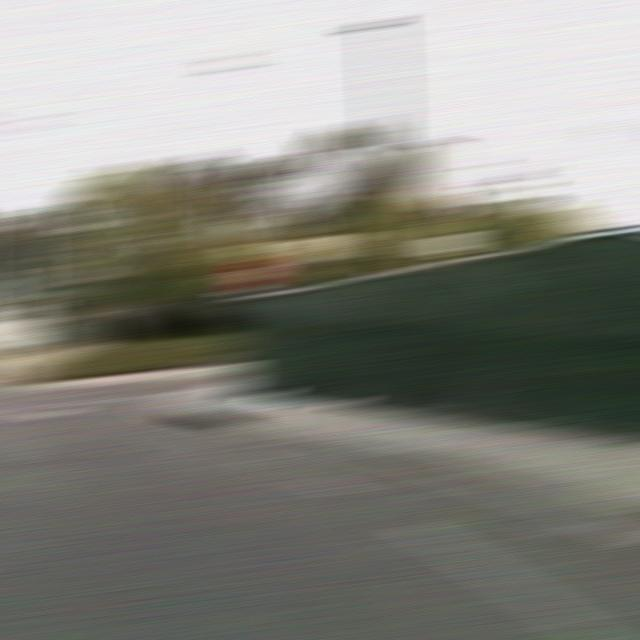stop: (232, 256, 280, 292)
